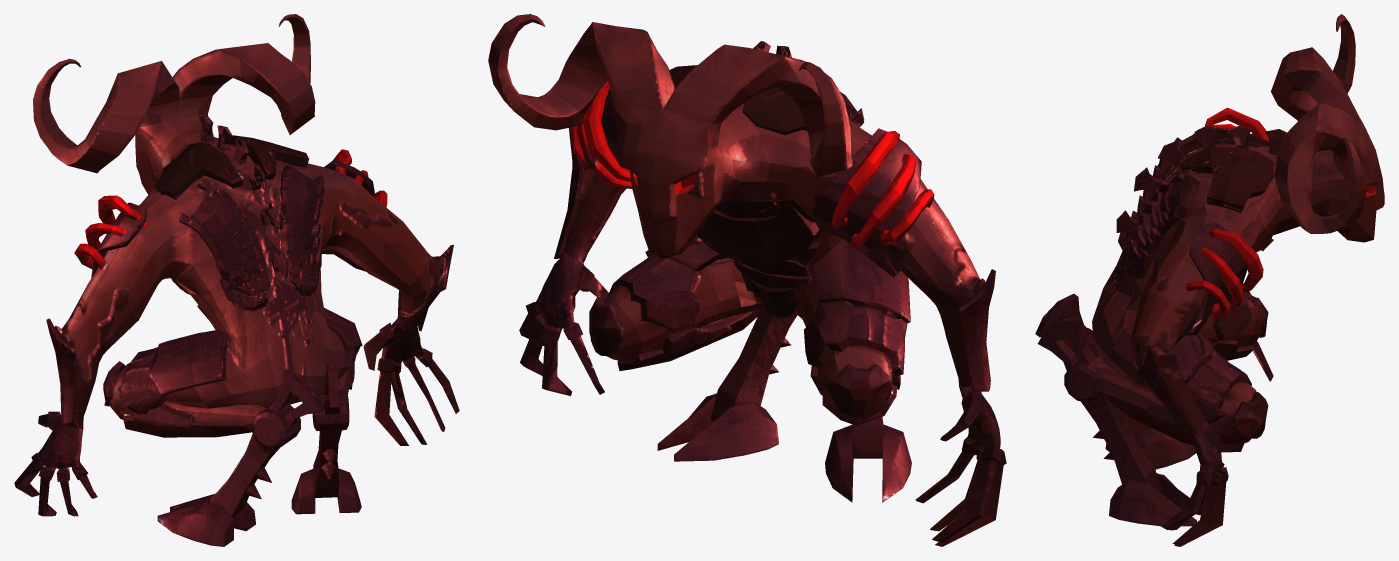
3 views of the same model, side by side, from view 1: azimuth 30°, elevation 25°; view 2: azimuth 150°, elevation 25°; view 3: azimuth 270°, elevation 25° (orthographic). The views are drawn at different scales.
Visible parts, largest first — view 1: Demon_LOW_Plane.002; view 2: Demon_LOW_Plane.002; view 3: Demon_LOW_Plane.002.
Part boxes in pixels (x1,y1,x2,y2): Demon_LOW_Plane.002: (14, 14, 459, 546); Demon_LOW_Plane.002: (488, 14, 1006, 546); Demon_LOW_Plane.002: (1035, 14, 1384, 546).
Size of the model in its own units: 4.45 by 4.35 by 3.32.
